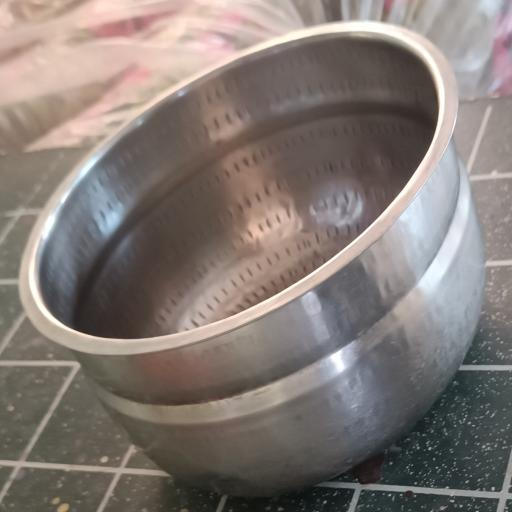vessel: (20, 23, 484, 495)
